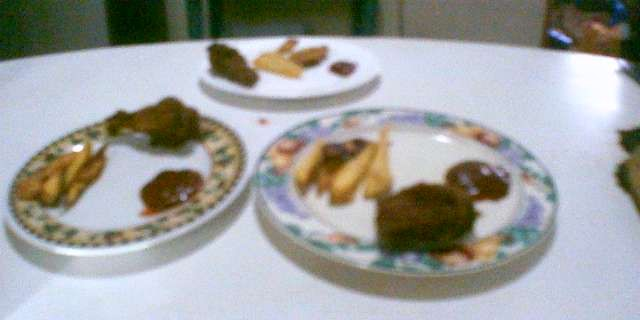chicken: (375, 177, 482, 255), (104, 91, 206, 151), (203, 36, 260, 93)
ketchup_portion: (442, 156, 515, 203), (133, 167, 206, 213), (329, 57, 360, 80)
potatoe_fries: (294, 123, 397, 206), (14, 136, 108, 211), (248, 31, 331, 81)
